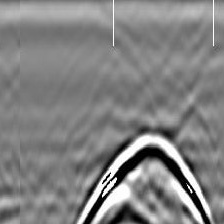Utility: (74, 126, 217, 224)
